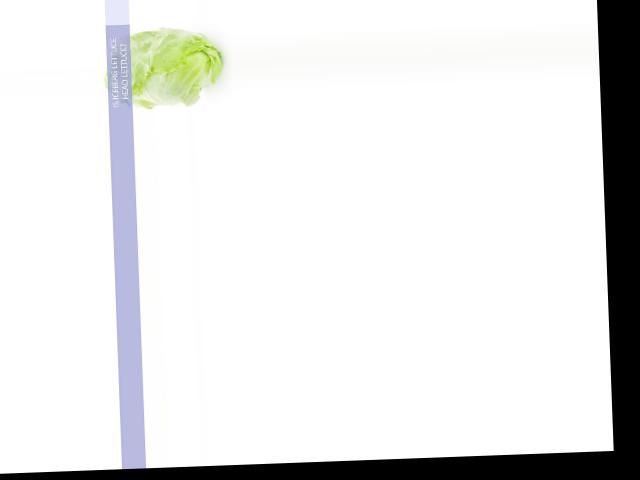lettuce: (101, 28, 230, 110)
